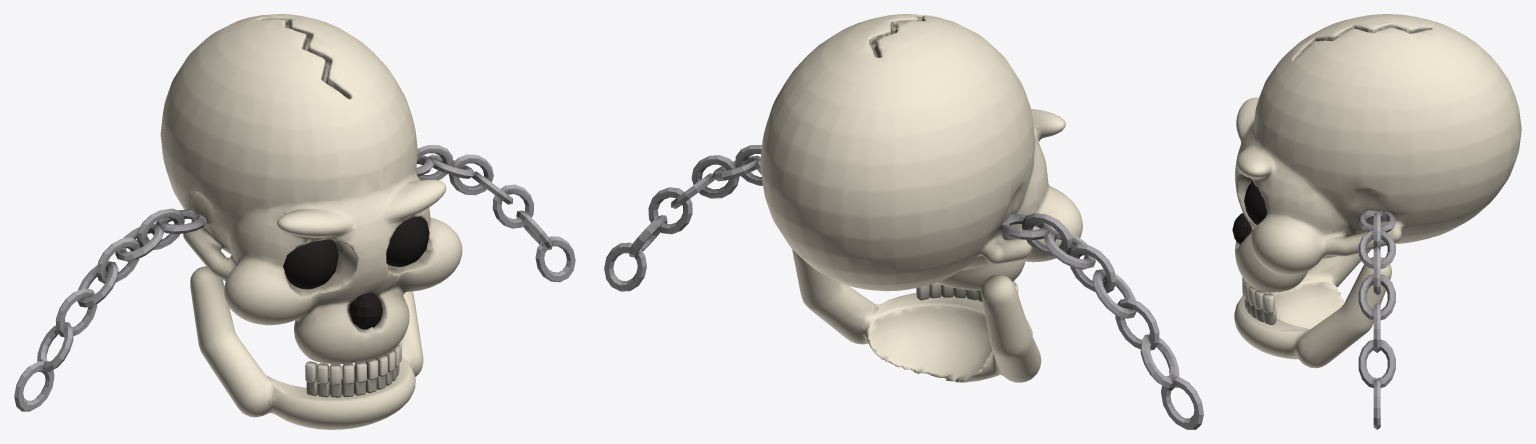
File: emb_caveira.glb
3 views of the same model, side by side, from view 1: azimuth 30°, elevation 25°; view 2: azimuth 150°, elevation 25°; view 3: azimuth 270°, elevation 25° (orthographic). The views are drawn at different scales.
Parts seen in each view (by area): view 1: emb_caveira; view 2: emb_caveira; view 3: emb_caveira.
Part boxes in pixels (x1,y1,x2,y2): emb_caveira: (14, 14, 575, 429); emb_caveira: (604, 14, 1203, 429); emb_caveira: (1232, 14, 1521, 429).
Size of the model in its own units: 0.2283 by 0.1375 by 0.1119.
